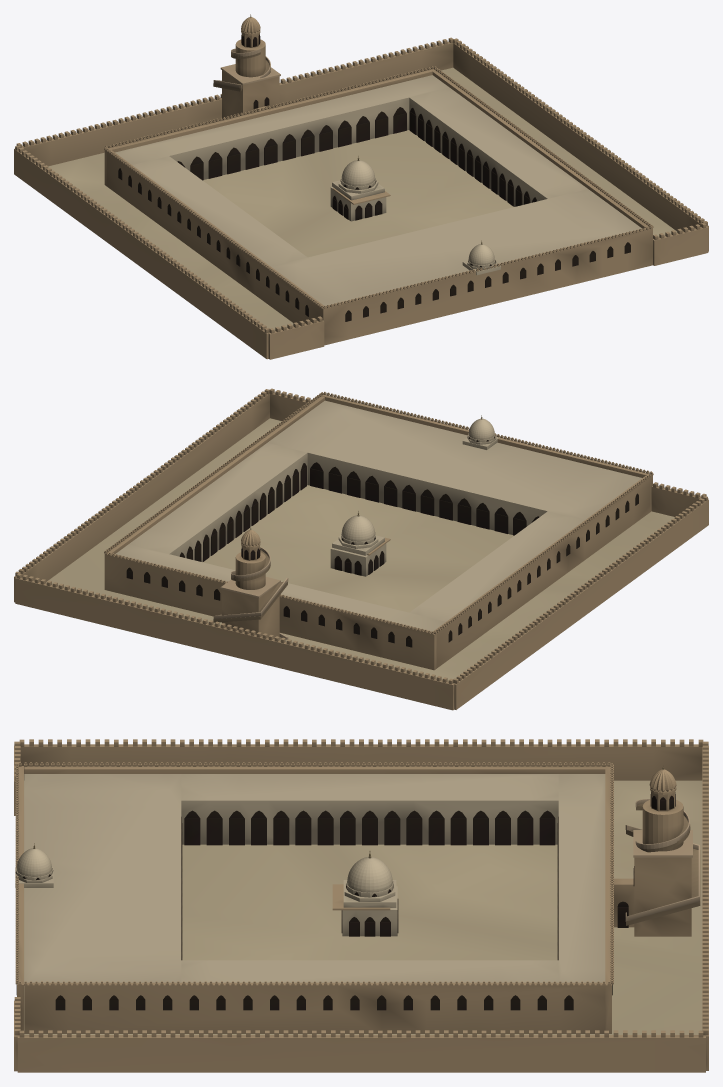
Rendered from ibn-tulun.glb.
The picture shows the model from 3 angles, top to bottom: view 1: azimuth 30°, elevation 25°; view 2: azimuth 150°, elevation 25°; view 3: azimuth 270°, elevation 25°; orthographic projection. The views are drawn at different scales.
Parts seen in each view (by area): view 1: p1_mosque, p0_ground, p3_minaret, p2_fountain; view 2: p1_mosque, p0_ground, p3_minaret, p2_fountain; view 3: p1_mosque, p0_ground, p3_minaret, p2_fountain.
Part boxes in pixels (bbox=[...]): p1_mosque: bbox=[104, 66, 653, 345]; p0_ground: bbox=[14, 37, 708, 359]; p3_minaret: bbox=[213, 14, 280, 120]; p2_fountain: bbox=[330, 156, 500, 275]; p1_mosque: bbox=[104, 391, 653, 670]; p0_ground: bbox=[14, 388, 708, 710]; p3_minaret: bbox=[213, 527, 288, 639]; p2_fountain: bbox=[330, 415, 500, 576]; p1_mosque: bbox=[15, 762, 613, 1033]; p0_ground: bbox=[14, 739, 708, 1072]; p3_minaret: bbox=[614, 765, 700, 936]; p2_fountain: bbox=[15, 843, 398, 936].
Bounding box in the file's own units: 164 × 41.68 × 164.
